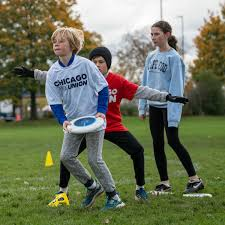disc: (68, 115, 106, 134)
